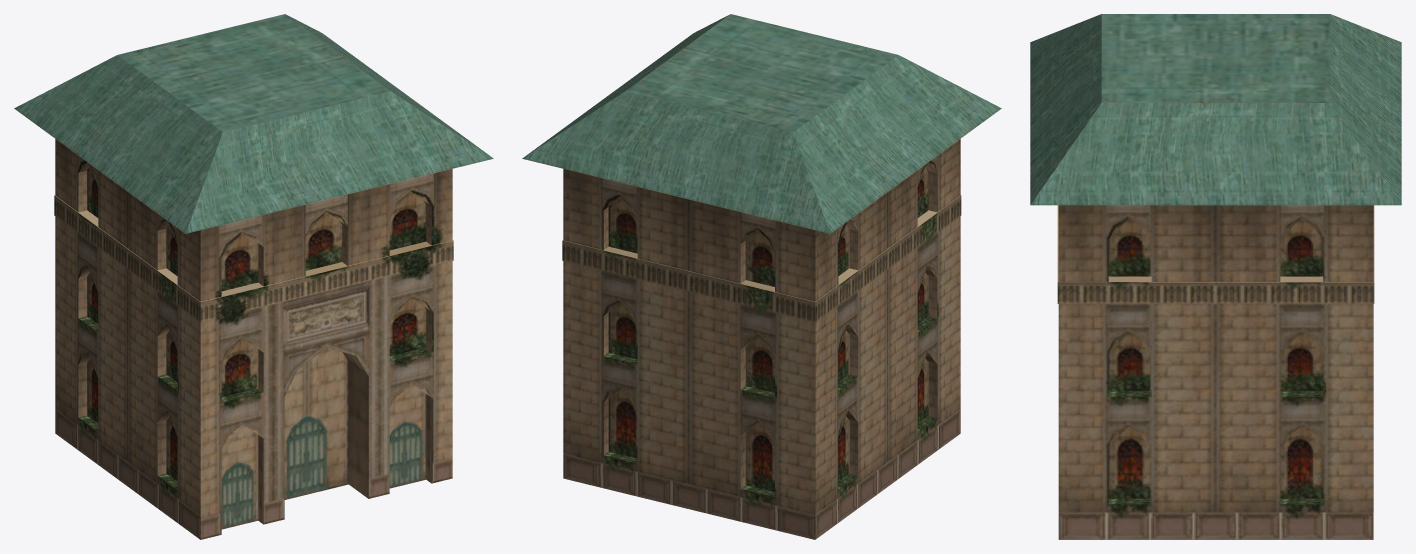
File: thm_nboo_thed_imprv_building_s06_l2.fbx
3 renders of one model, left to right at view 1: azimuth 30°, elevation 25°; view 2: azimuth 150°, elevation 25°; view 3: azimuth 270°, elevation 25°, orthographic. The views are drawn at different scales.
Parts seen in each view (by area): view 1: mesh_node; view 2: mesh_node; view 3: mesh_node.
Boxes of the visible parts, x1=… form: mesh_node: x1=14, y1=14, x2=493, y2=539; mesh_node: x1=522, y1=14, x2=1001, y2=539; mesh_node: x1=1030, y1=14, x2=1401, y2=539.
Size of the model in its own units: 16.85 by 19.99 by 16.23.
